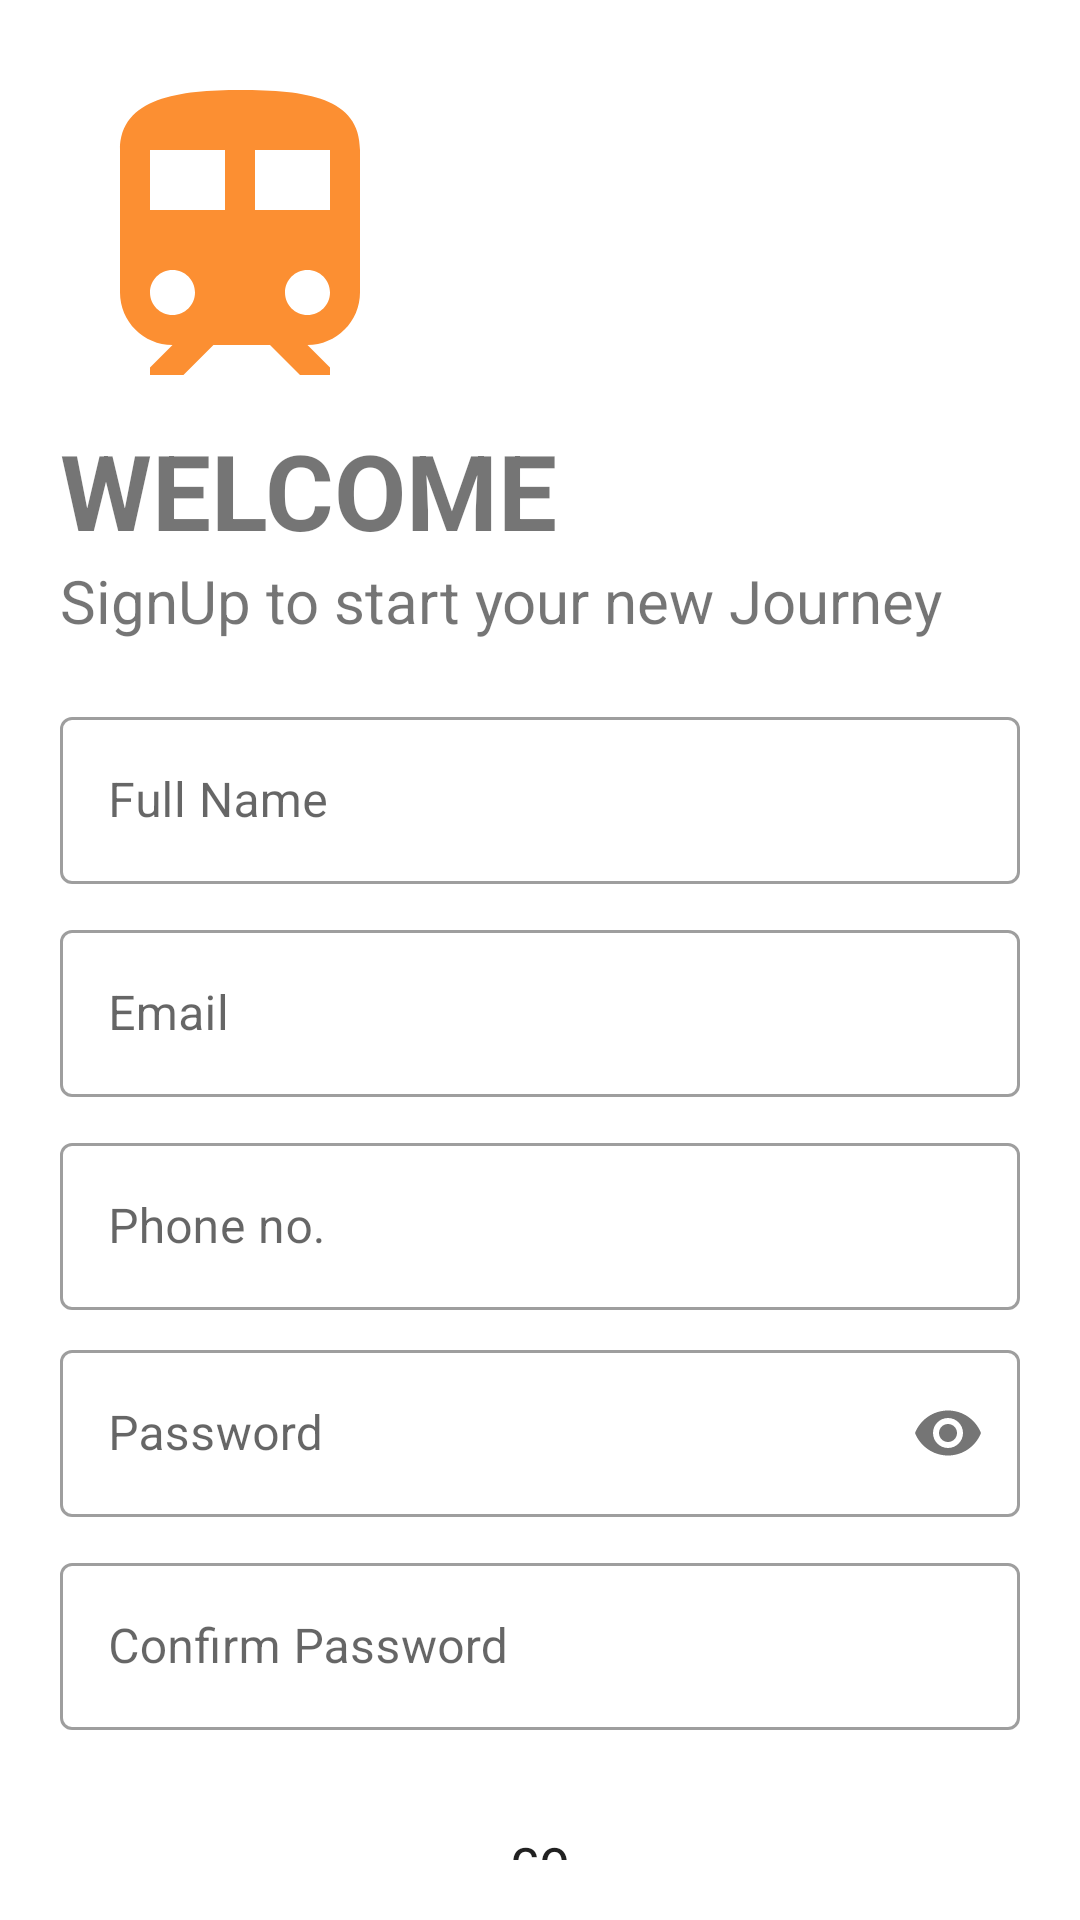

Icon bounding boxes for this 1080 × 1920 phone screenshot, format {"x1": x1, "y1": y1, "x2": x2, "y2": y2}:
train: {"x1": 120, "y1": 90, "x2": 360, "y2": 375}
